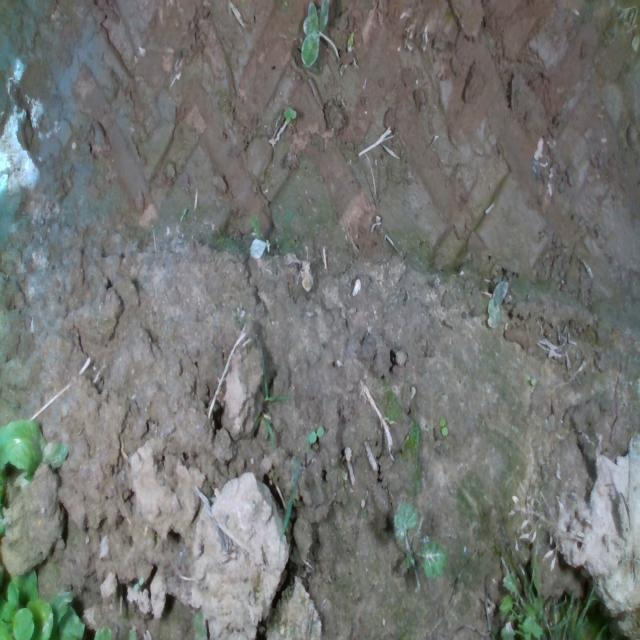weed: (308, 422, 324, 444), (438, 415, 448, 437)
